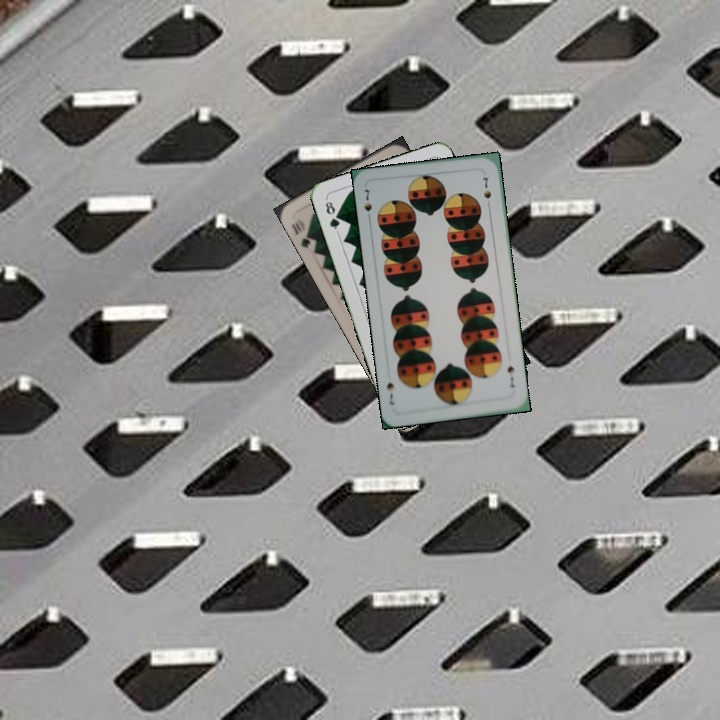G10: (287, 215, 317, 251)
G8: (321, 195, 342, 235)
S7: (360, 185, 374, 224), (503, 362, 517, 390)
